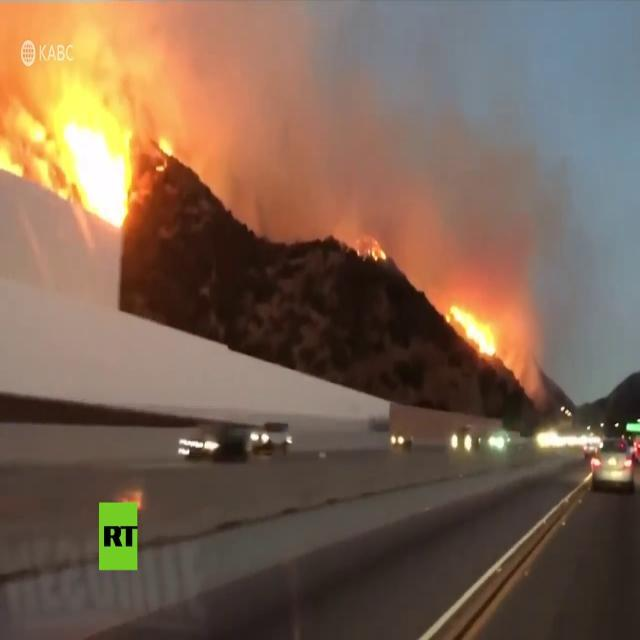Fire: (2, 81, 128, 230), (445, 304, 497, 358), (158, 138, 172, 170), (370, 236, 387, 262)
Smoke: (224, 3, 596, 289), (195, 0, 353, 265)
